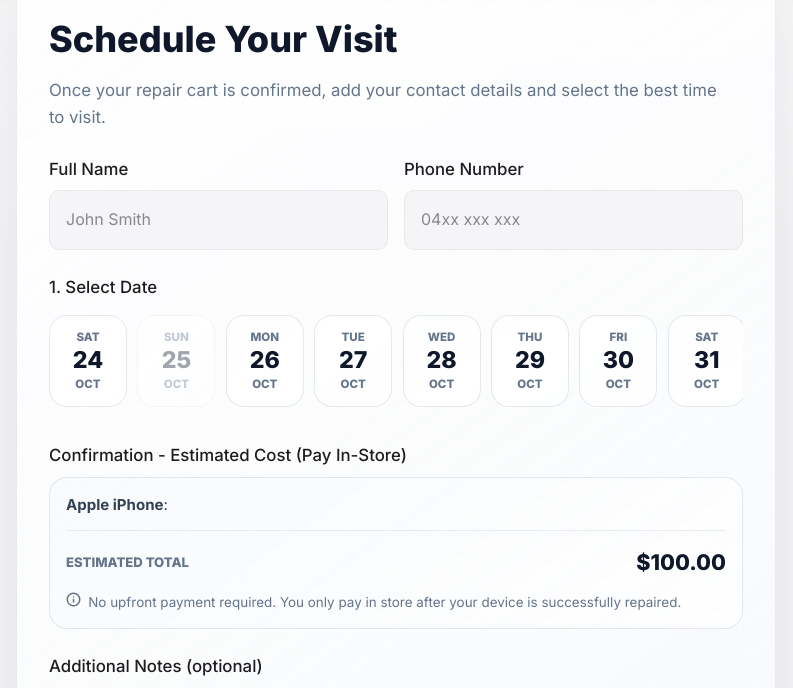
Book Repair time slots › renders every 30-minute start from 09:00 through 16:30, but not 17:00
(page scrolled)
Click the button with class "booking-date-card" showing "Sat 24 Oct" at (88, 360), box [49, 314, 127, 406]
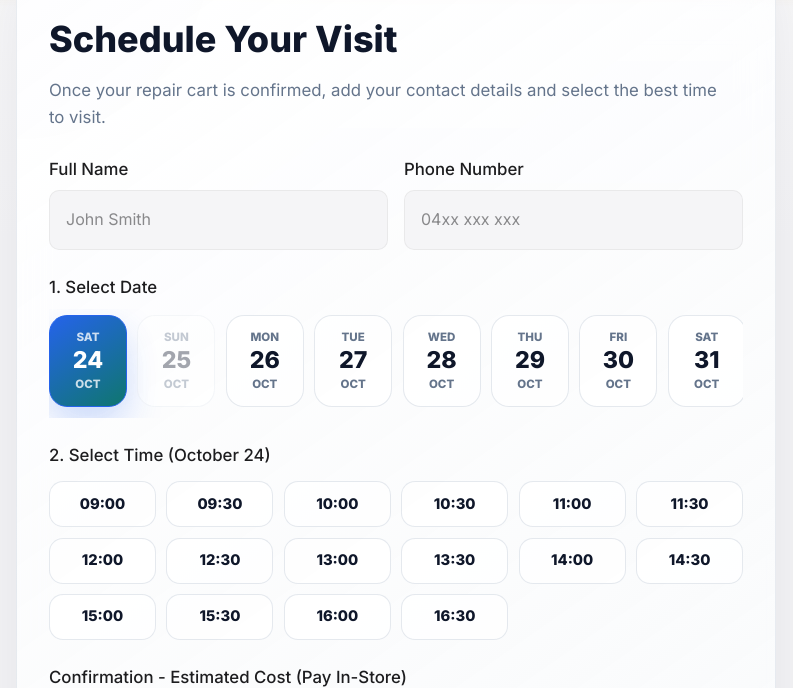
Now the button "09:00" is shown, box [49, 481, 156, 527]
Now the button "09:30" is shown, box [166, 481, 273, 527]
Now the button "16:00" is shown, box [284, 594, 391, 640]
